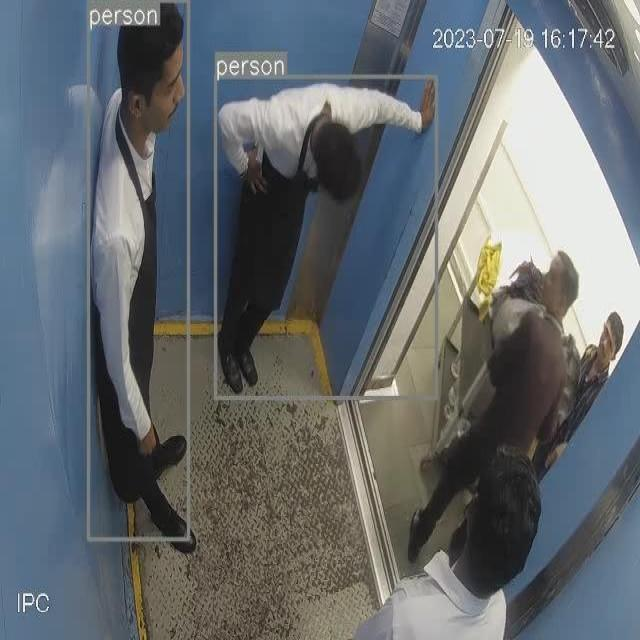person: (217, 77, 437, 396), (89, 2, 189, 538), (355, 445, 548, 639)
